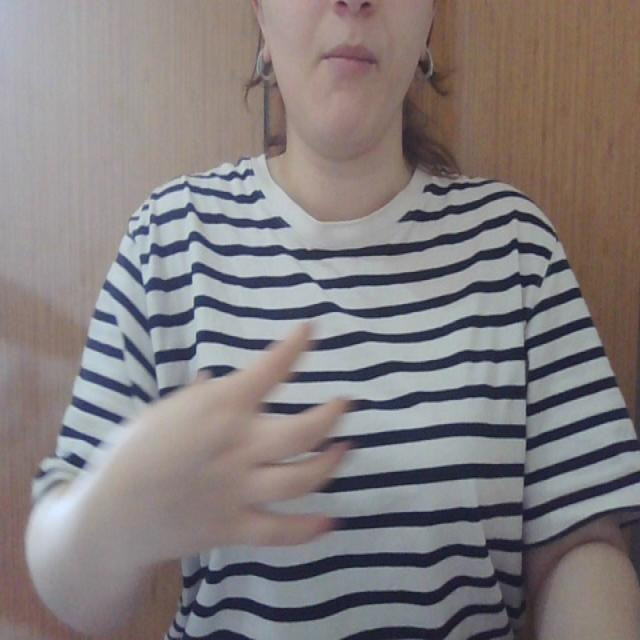Anne: (138, 307, 532, 568)
